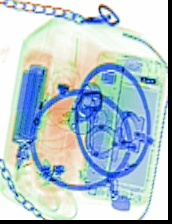powerbank: (10, 49, 54, 144)
